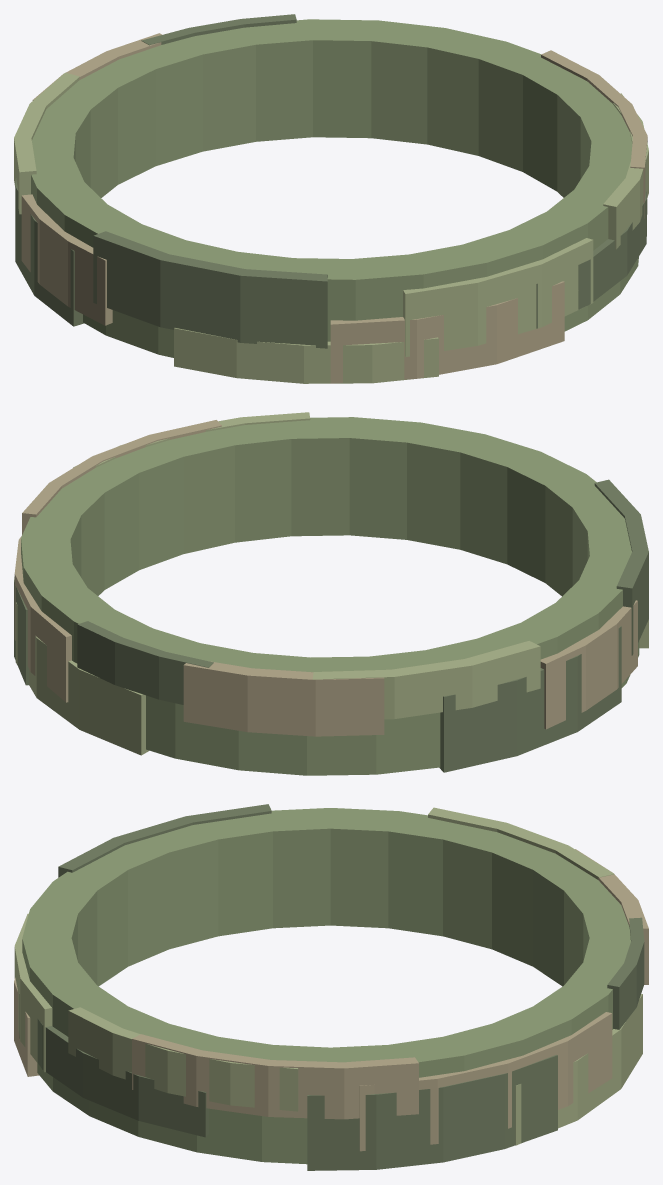
Rendered from CamoBand.fbx.
3 views of the same model, one above another, from view 1: azimuth 30°, elevation 25°; view 2: azimuth 150°, elevation 25°; view 3: azimuth 270°, elevation 25° (orthographic).
Visible parts, largest first — view 1: CamoBand.Band, CamoBand.PatchesDark, CamoBand.PatchesSage, CamoBand.PatchesTan; view 2: CamoBand.Band, CamoBand.PatchesTan, CamoBand.PatchesDark, CamoBand.PatchesSage; view 3: CamoBand.Band, CamoBand.PatchesDark, CamoBand.PatchesTan, CamoBand.PatchesSage.
Boxes of the visible parts, x1=… form: CamoBand.Band: x1=31, y1=19, x2=638, y2=357; CamoBand.PatchesDark: x1=15, y1=14, x2=647, y2=348; CamoBand.PatchesSage: x1=14, y1=72, x2=648, y2=383; CamoBand.PatchesTan: x1=21, y1=33, x2=647, y2=383; CamoBand.Band: x1=21, y1=417, x2=639, y2=775; CamoBand.PatchesTan: x1=14, y1=420, x2=637, y2=736; CamoBand.PatchesDark: x1=14, y1=479, x2=648, y2=772; CamoBand.PatchesSage: x1=15, y1=412, x2=648, y2=755; CamoBand.Band: x1=22, y1=808, x2=630, y2=1164; CamoBand.PatchesDark: x1=19, y1=804, x2=644, y2=1170; CamoBand.PatchesTan: x1=14, y1=849, x2=648, y2=1151; CamoBand.PatchesSage: x1=14, y1=807, x2=642, y2=1145.
Size of the model in its own units: 1.54 by 0.2779 by 1.54.
